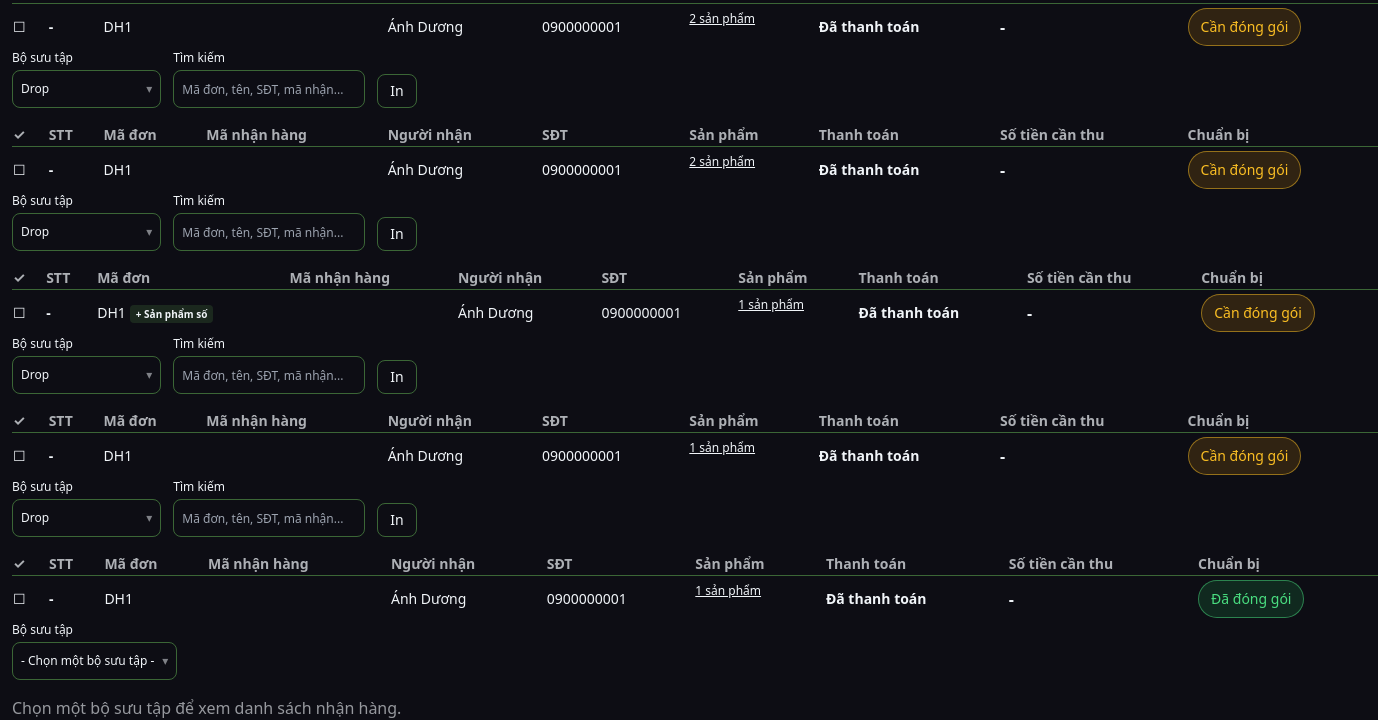
it: ShippingRoster › shows excluded orders with their reason
This screenshot has width=1378, height=720.
(page scrolled)
What coordinates should you click on to do the following:
click the button with aria-label "- Chọn một bộ sưu tập -"
I would click on:
 (95, 661)
Its box is [12,642,177,680].
(page scrolled)
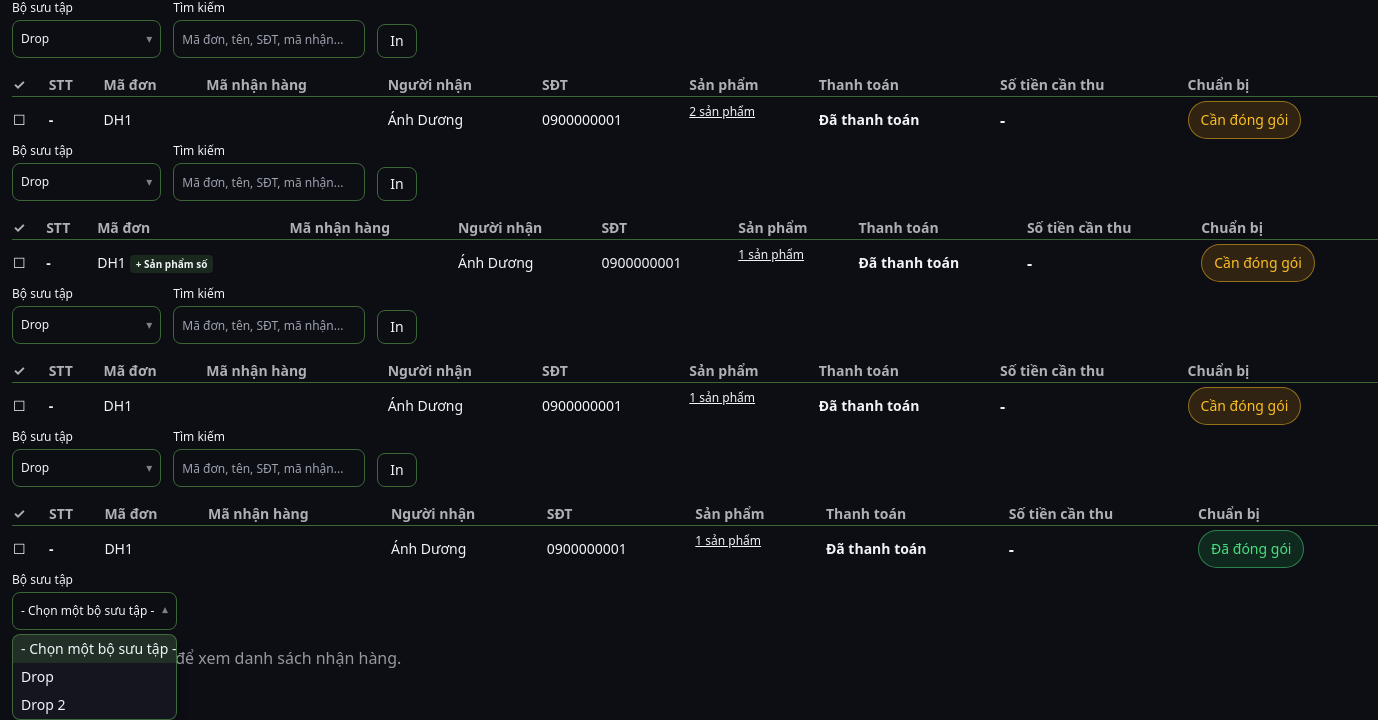
What coordinates should you click on to do the following:
click the button "Drop"
I would click on:
 (95, 677)
Its box is [13,663,176,691].
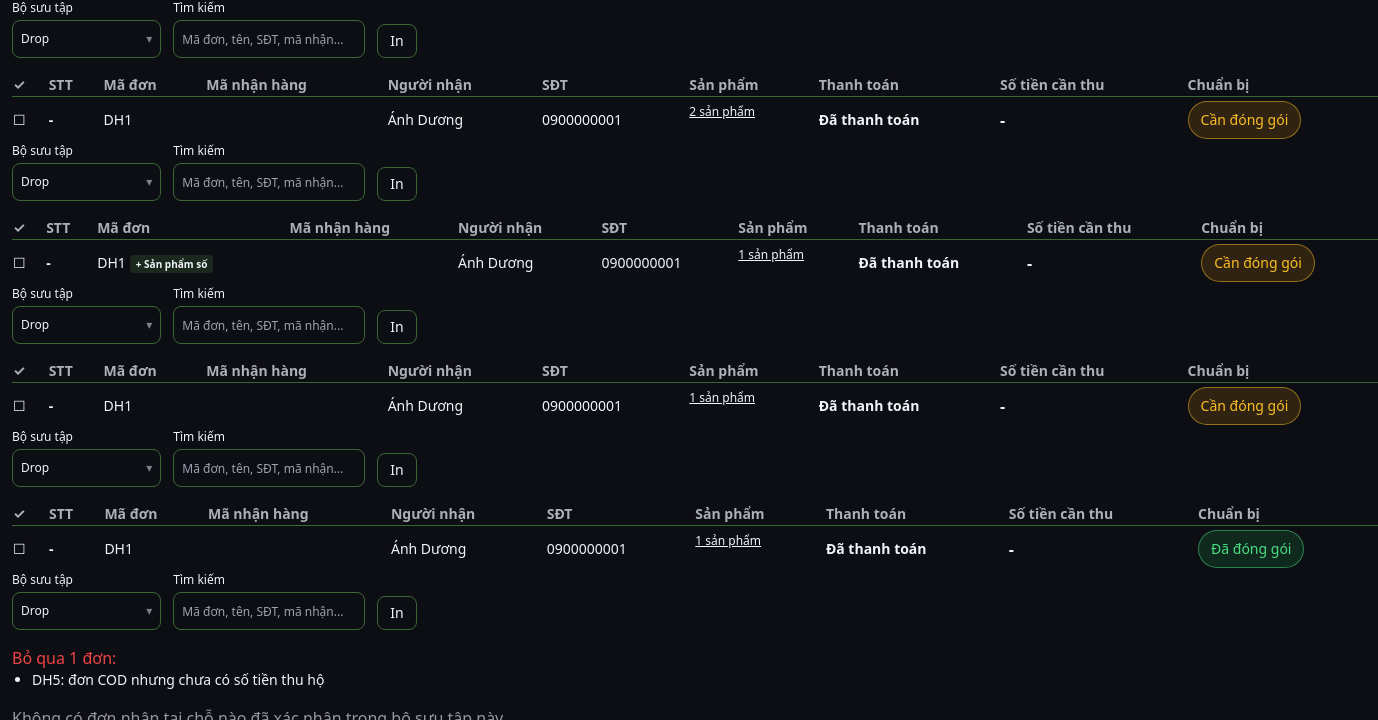
Expected: the text "đơn COD nhưng chưa có số tiền thu hộ" is shown, [32,670,324,689]
